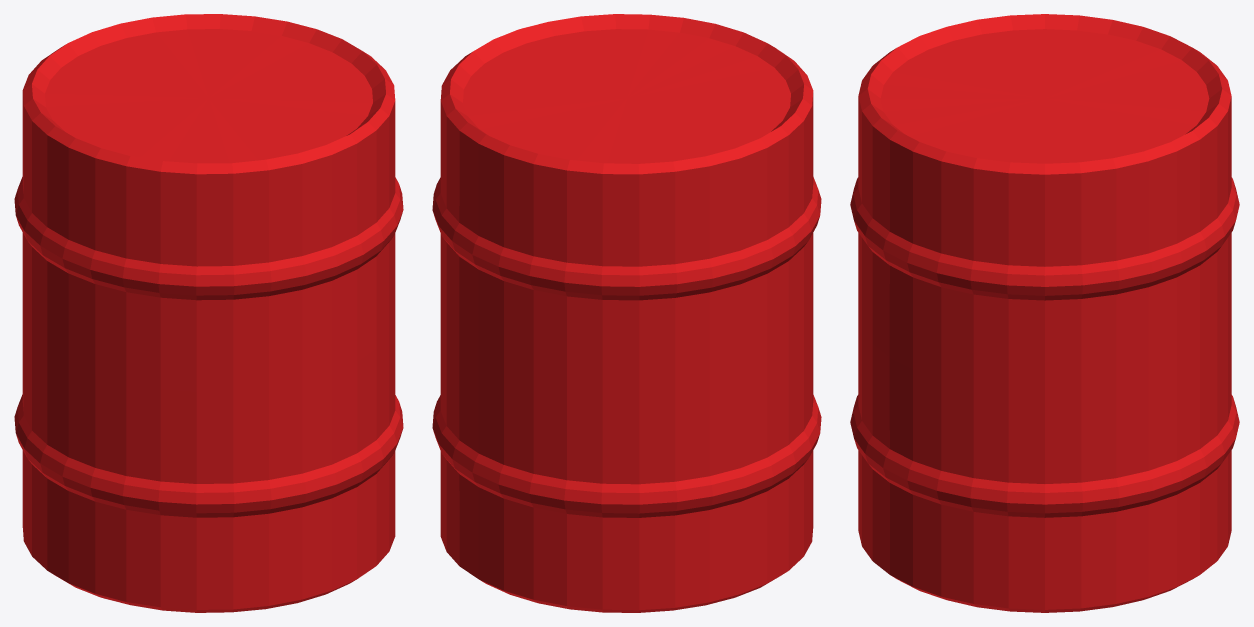
The model's file is barrel_cool_red.fbx.
The picture shows the model from 3 angles, left to right: view 1: azimuth 30°, elevation 25°; view 2: azimuth 150°, elevation 25°; view 3: azimuth 270°, elevation 25°; orthographic projection.
Parts seen in each view (by area): view 1: Cylinder; view 2: Cylinder; view 3: Cylinder.
Boxes of the visible parts, box(x1,y1,x2,y2) form: Cylinder: box(14, 14, 403, 612); Cylinder: box(432, 14, 821, 612); Cylinder: box(850, 14, 1239, 612).
Bounding box in the file's own units: 209 × 266 × 209.
